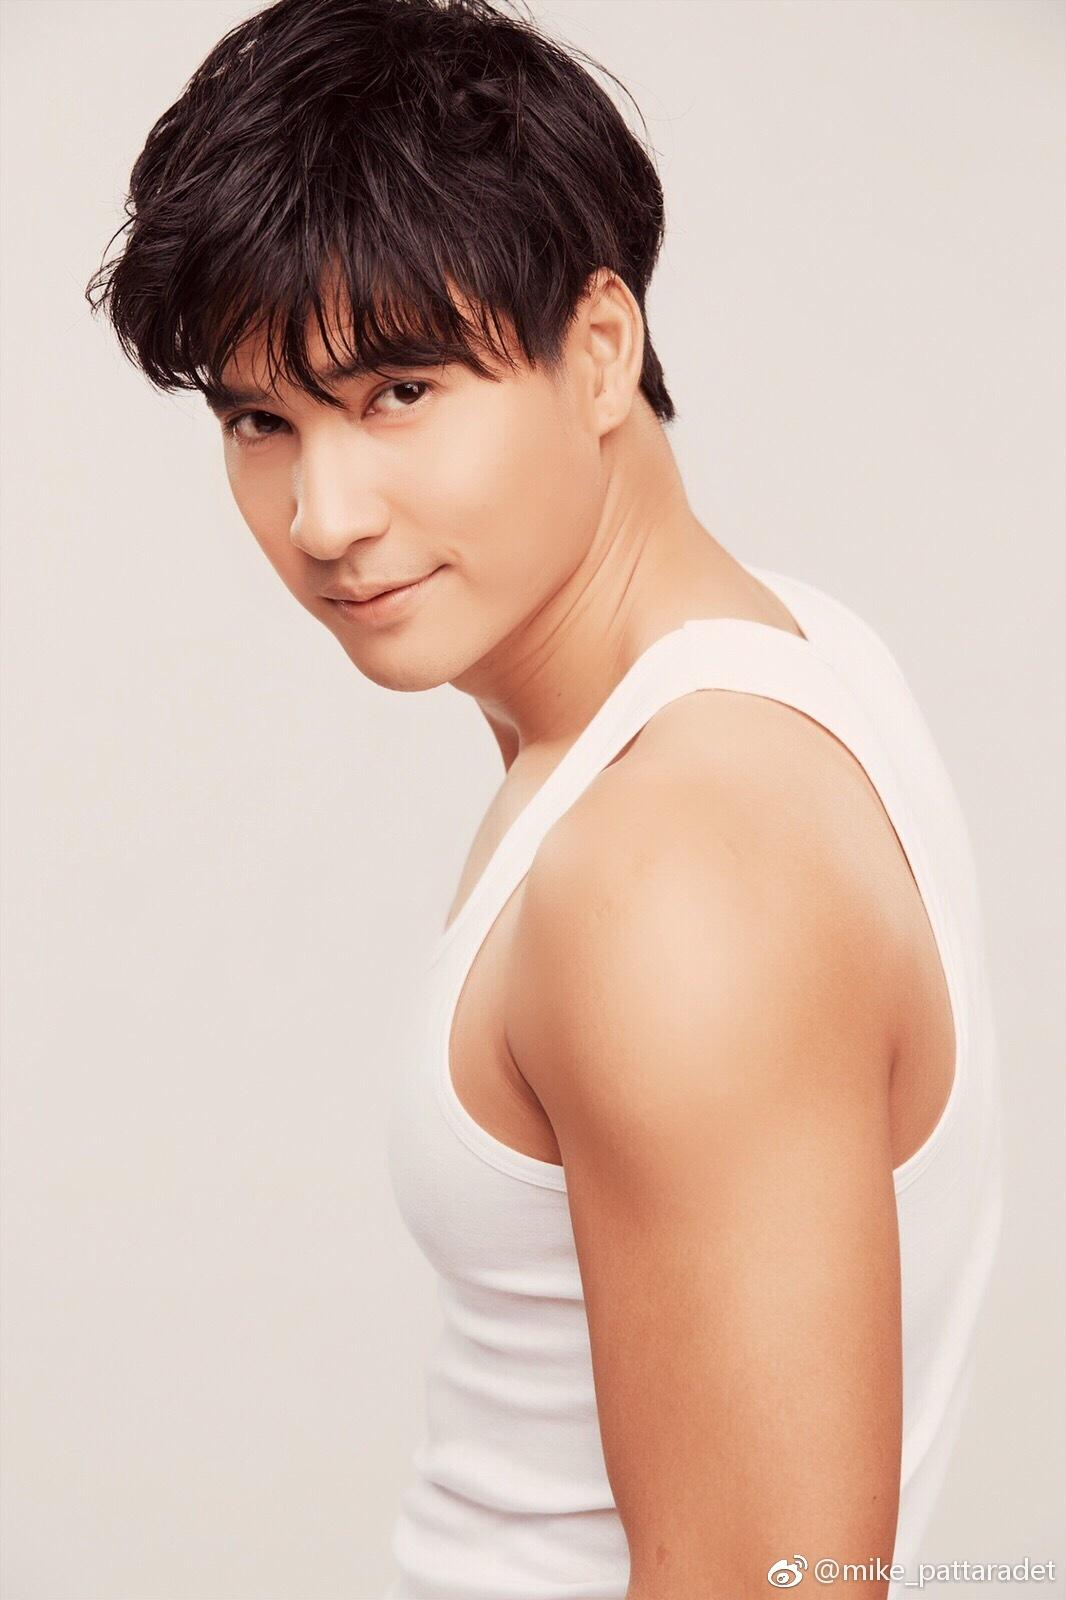person: (57, 65, 1022, 1455)
